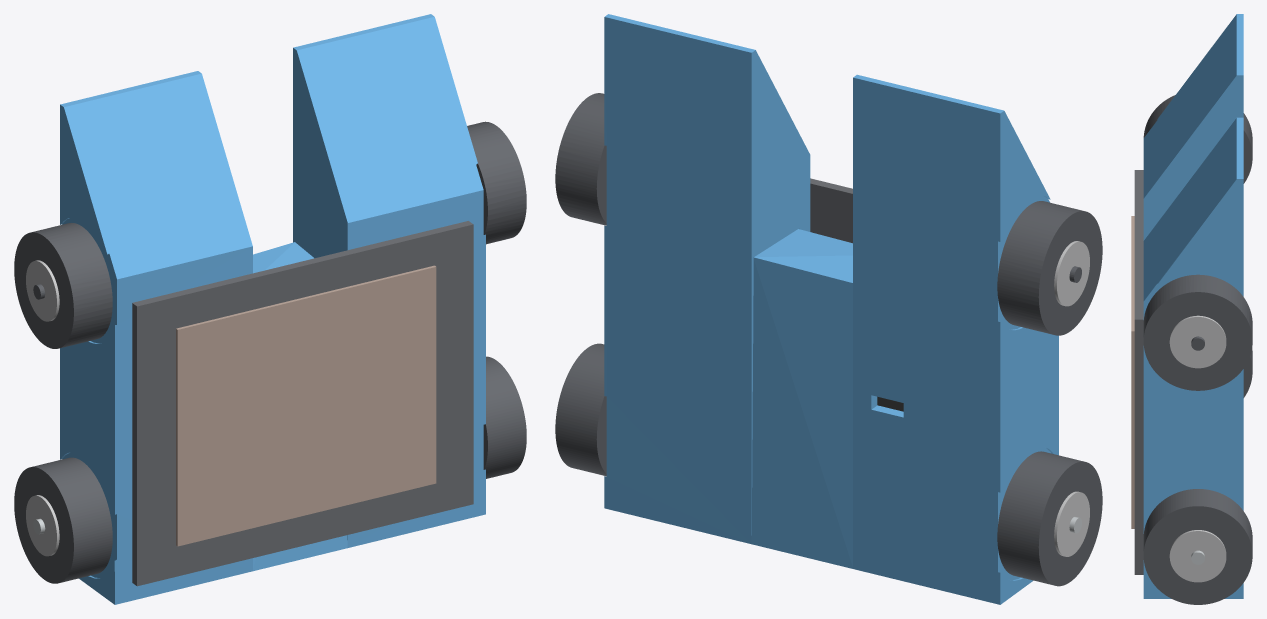
File: pantherk.glb
The picture shows the model from 3 angles, left to right: view 1: azimuth 30°, elevation 25°; view 2: azimuth 150°, elevation 25°; view 3: azimuth 270°, elevation 25°; orthographic projection. The views are drawn at different scales.
Parts seen in each view (by area): view 1: picture, pod_r, pod_l, top_plate, wheel_r1, wheel_r0, wheel_l1, wheel_l0, bridge, dt_hub_wheel_r0, dt_hub_wheel_r1; view 2: pod_r, pod_l, bridge, wheel_r1, wheel_r0, wheel_l0, wheel_l1, top_plate, dt_hub_wheel_r0, dt_hub_wheel_r1; view 3: pod_l, pod_r, wheel_l1, wheel_l0, top_plate, dt_hub_wheel_l0, dt_hub_wheel_l1, picture, wheel_r1, wheel_r0.
Boxes of the visible parts, <box> form: picture: <box>176,265,436,546</box>; pod_r: <box>60,71,252,604</box>; pod_l: <box>293,14,485,547</box>; top_plate: <box>132,221,473,586</box>; wheel_r1: <box>14,223,112,348</box>; wheel_r0: <box>14,457,112,583</box>; wheel_l1: <box>467,121,526,244</box>; wheel_l0: <box>483,356,526,478</box>; bridge: <box>253,242,347,571</box>; dt_hub_wheel_r0: <box>26,495,59,556</box>; dt_hub_wheel_r1: <box>26,260,59,321</box>; pod_r: <box>853,74,1058,604</box>; pod_l: <box>604,14,810,544</box>; bridge: <box>751,229,852,568</box>; wheel_r1: <box>997,201,1102,335</box>; wheel_r0: <box>997,451,1102,586</box>; wheel_l0: <box>555,343,606,476</box>; wheel_l1: <box>555,93,606,225</box>; top_plate: <box>810,178,852,243</box>; dt_hub_wheel_r0: <box>1054,491,1089,556</box>; dt_hub_wheel_r1: <box>1054,241,1089,306</box>; pod_l: <box>1143,117,1243,598</box>; pod_r: <box>1143,14,1243,240</box>; wheel_l1: <box>1143,274,1252,390</box>; wheel_l0: <box>1143,489,1252,604</box>; top_plate: <box>1134,170,1143,574</box>; dt_hub_wheel_l0: <box>1169,530,1226,582</box>; dt_hub_wheel_l1: <box>1169,315,1226,368</box>; picture: <box>1131,216,1134,528</box>; wheel_r1: <box>1143,95,1252,183</box>; wheel_r0: <box>1243,348,1252,397</box>.
Size of the model in its own units: 108 by 102 by 26.7.
